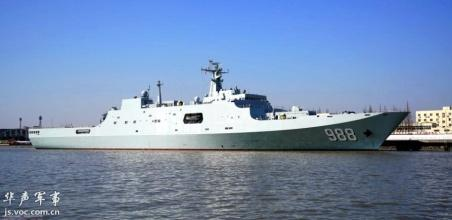warship: (23, 56, 420, 151)
